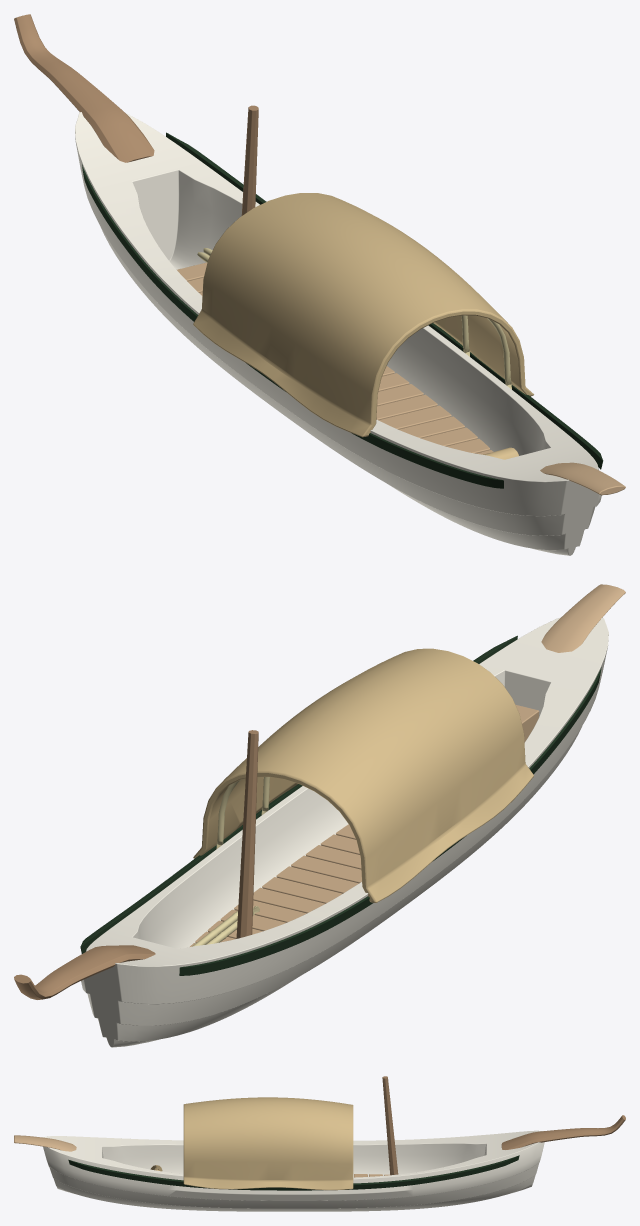
Rendered from boat_lepa_2000.glb.
The picture shows the model from 3 angles, top to bottom: view 1: azimuth 30°, elevation 25°; view 2: azimuth 150°, elevation 25°; view 3: azimuth 270°, elevation 25°; orthographic projection. The views are drawn at different scales.
Visible parts, largest first — view 1: lepa_2000_paint_hull, lepa_2000_thatch, lepa_2000_timber, lepa_2000_plank, lepa_2000_paint_trim, lepa_2000_bamboo; view 2: lepa_2000_paint_hull, lepa_2000_thatch, lepa_2000_plank, lepa_2000_timber, lepa_2000_paint_trim, lepa_2000_bamboo; view 3: lepa_2000_paint_hull, lepa_2000_thatch, lepa_2000_paint_trim, lepa_2000_timber, lepa_2000_plank.
Part boxes in pixels (x1,y1,x2,y2): lepa_2000_paint_hull: (75, 112, 601, 555); lepa_2000_thatch: (193, 193, 533, 459); lepa_2000_timber: (14, 14, 258, 215); lepa_2000_plank: (177, 262, 625, 495); lepa_2000_paint_trim: (82, 132, 603, 488); lepa_2000_bamboo: (197, 248, 511, 389); lepa_2000_paint_hull: (81, 617, 608, 1047); lepa_2000_thatch: (193, 648, 533, 902); lepa_2000_plank: (190, 584, 625, 946); lepa_2000_timber: (14, 730, 258, 999); lepa_2000_paint_trim: (80, 635, 601, 975); lepa_2000_bamboo: (192, 777, 269, 946); lepa_2000_paint_hull: (42, 1130, 544, 1211); lepa_2000_thatch: (150, 1097, 353, 1190); lepa_2000_paint_trim: (68, 1155, 519, 1190); lepa_2000_timber: (382, 1076, 625, 1175); lepa_2000_plank: (14, 1135, 389, 1177).
Size of the model in its own units: 2 by 2.5 by 10.94.
